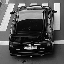mobil: (7, 4, 54, 57)
